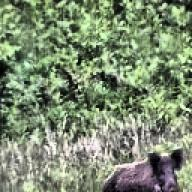boar: (101, 147, 183, 192)
